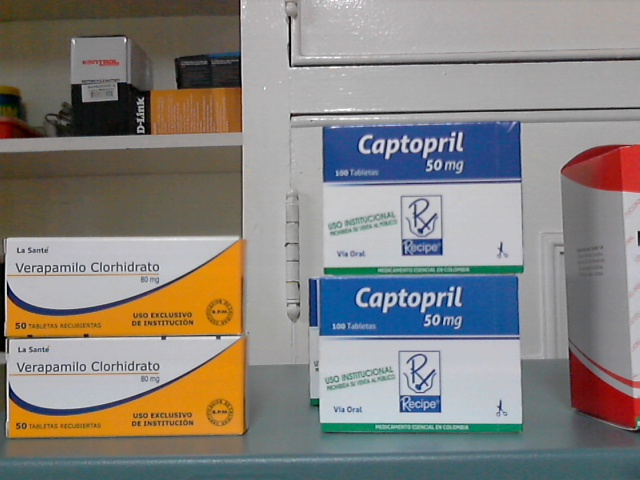LaSante: (6, 339, 244, 434), (6, 239, 241, 334)
